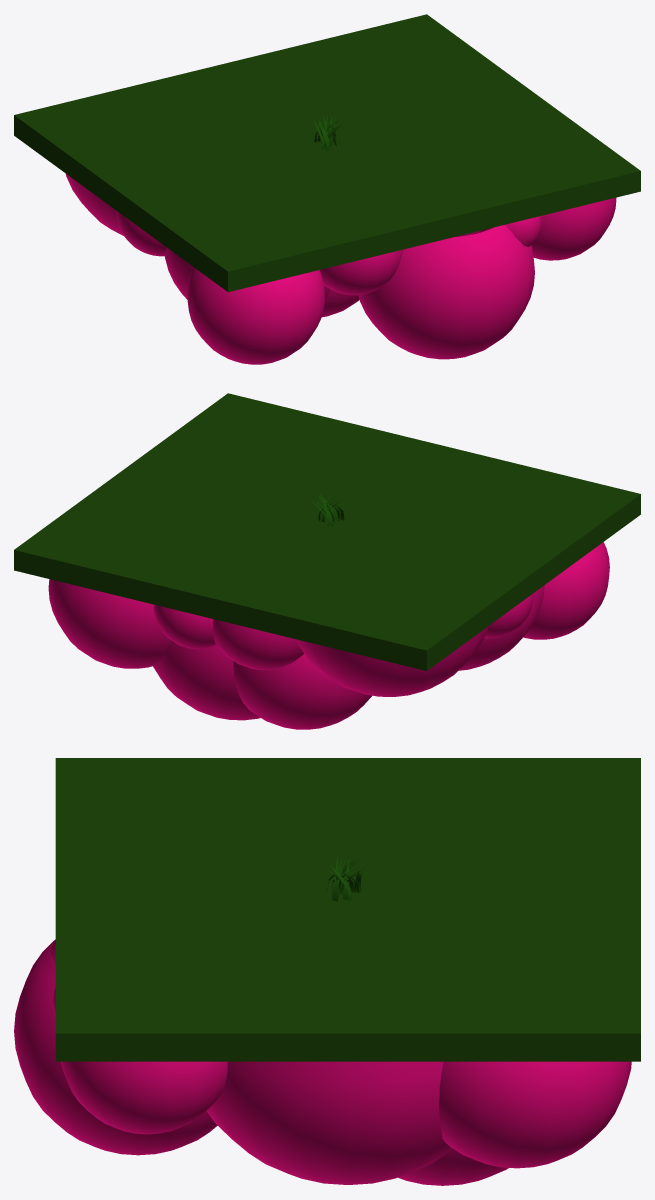
The model's file is PinkCloudArena.fbx.
3 renders of one model, top to bottom at view 1: azimuth 30°, elevation 25°; view 2: azimuth 150°, elevation 25°; view 3: azimuth 270°, elevation 25°, orthographic. The views are drawn at different scales.
Parts seen in each view (by area): view 1: stage, pSphere11, pSphere14, pSphere9, pSphere13, pSphere5, pSphere18, pSphere6, pSphere12, pSphere3; view 2: stage, pSphere10, pSphere8, pSphere5, pSphere17, pSphere14, pSphere16, pSphere15, pSphere6, pSphere18; view 3: stage, pSphere4, pSphere10, pSphere11, pSphere9, pSphere17.
Part boxes in pixels (x1,y1,x2,y2): stage: (14, 14, 640, 292); pSphere11: (358, 225, 534, 359); pSphere14: (187, 267, 324, 364); pSphere9: (531, 197, 616, 260); pSphere13: (319, 249, 402, 295); pSphere5: (66, 174, 123, 235); pSphere18: (116, 211, 166, 256); pSphere6: (164, 247, 330, 299); pSphere12: (477, 216, 541, 246); pSphere3: (322, 289, 359, 317); stage: (14, 393, 640, 670); pSphere10: (48, 579, 171, 668); pSphere8: (233, 654, 371, 729); pSphere5: (296, 626, 488, 696); pSphere17: (153, 641, 260, 720); pSphere14: (523, 542, 609, 639); pSphere16: (213, 619, 303, 669); pSphere15: (153, 604, 216, 649); pSphere6: (458, 585, 544, 670); pSphere18: (484, 593, 533, 638); stage: (55, 758, 640, 1061); pSphere4: (207, 1061, 452, 1184); pSphere10: (438, 1061, 631, 1168); pSphere11: (14, 939, 217, 1155); pSphere9: (61, 1061, 227, 1134); pSphere17: (398, 1149, 508, 1185).
Size of the model in its own units: 27.43 by 12.62 by 26.33.
